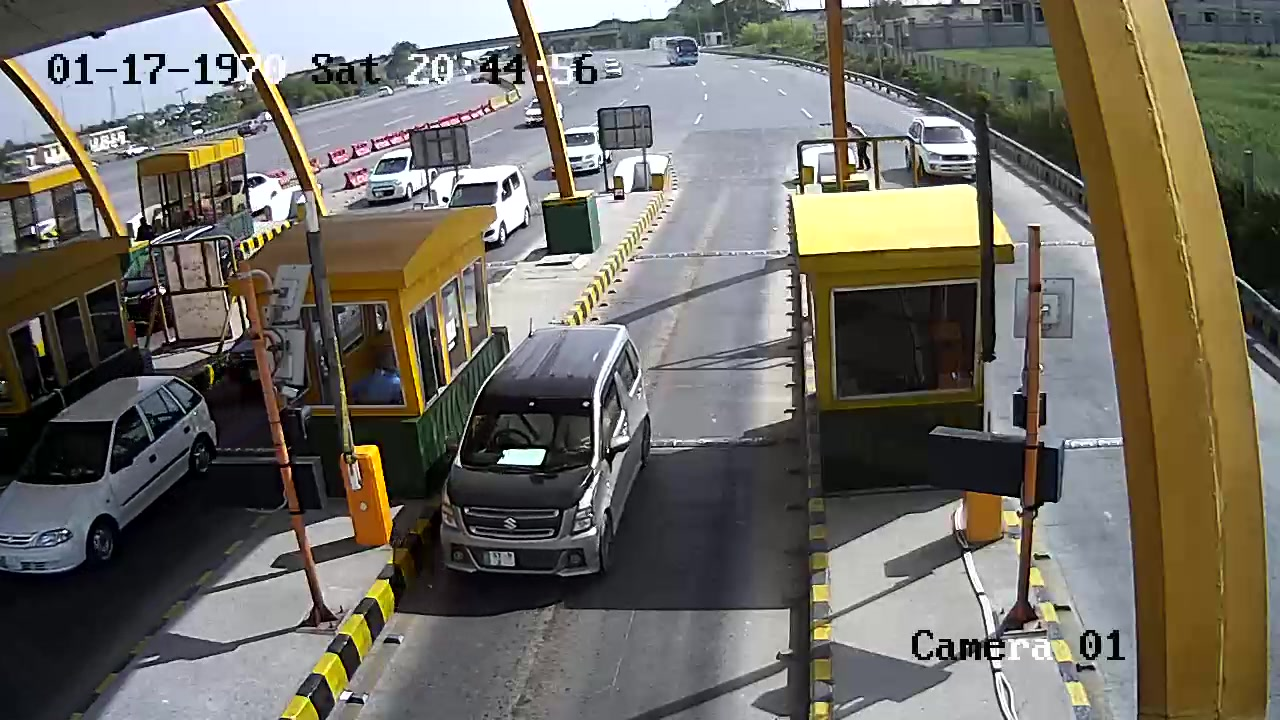F1: (427, 310, 669, 580)
